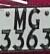3: (1, 26, 13, 52), (11, 30, 25, 51), (39, 26, 50, 48)
6: (24, 30, 40, 51)
G: (27, 6, 42, 29)
M: (11, 7, 27, 30)
